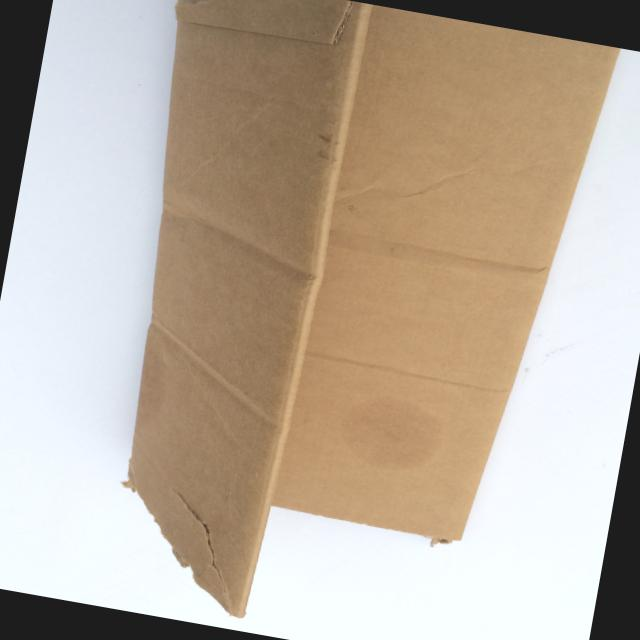Cardboard: (59, 0, 634, 640)
